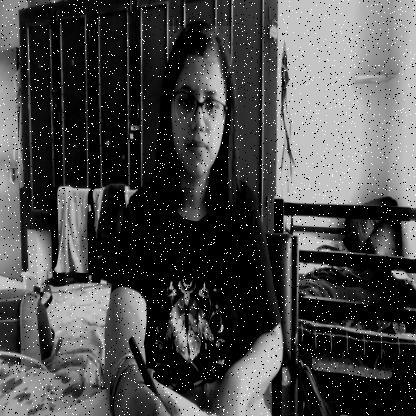Normal: (167, 26, 232, 188)
